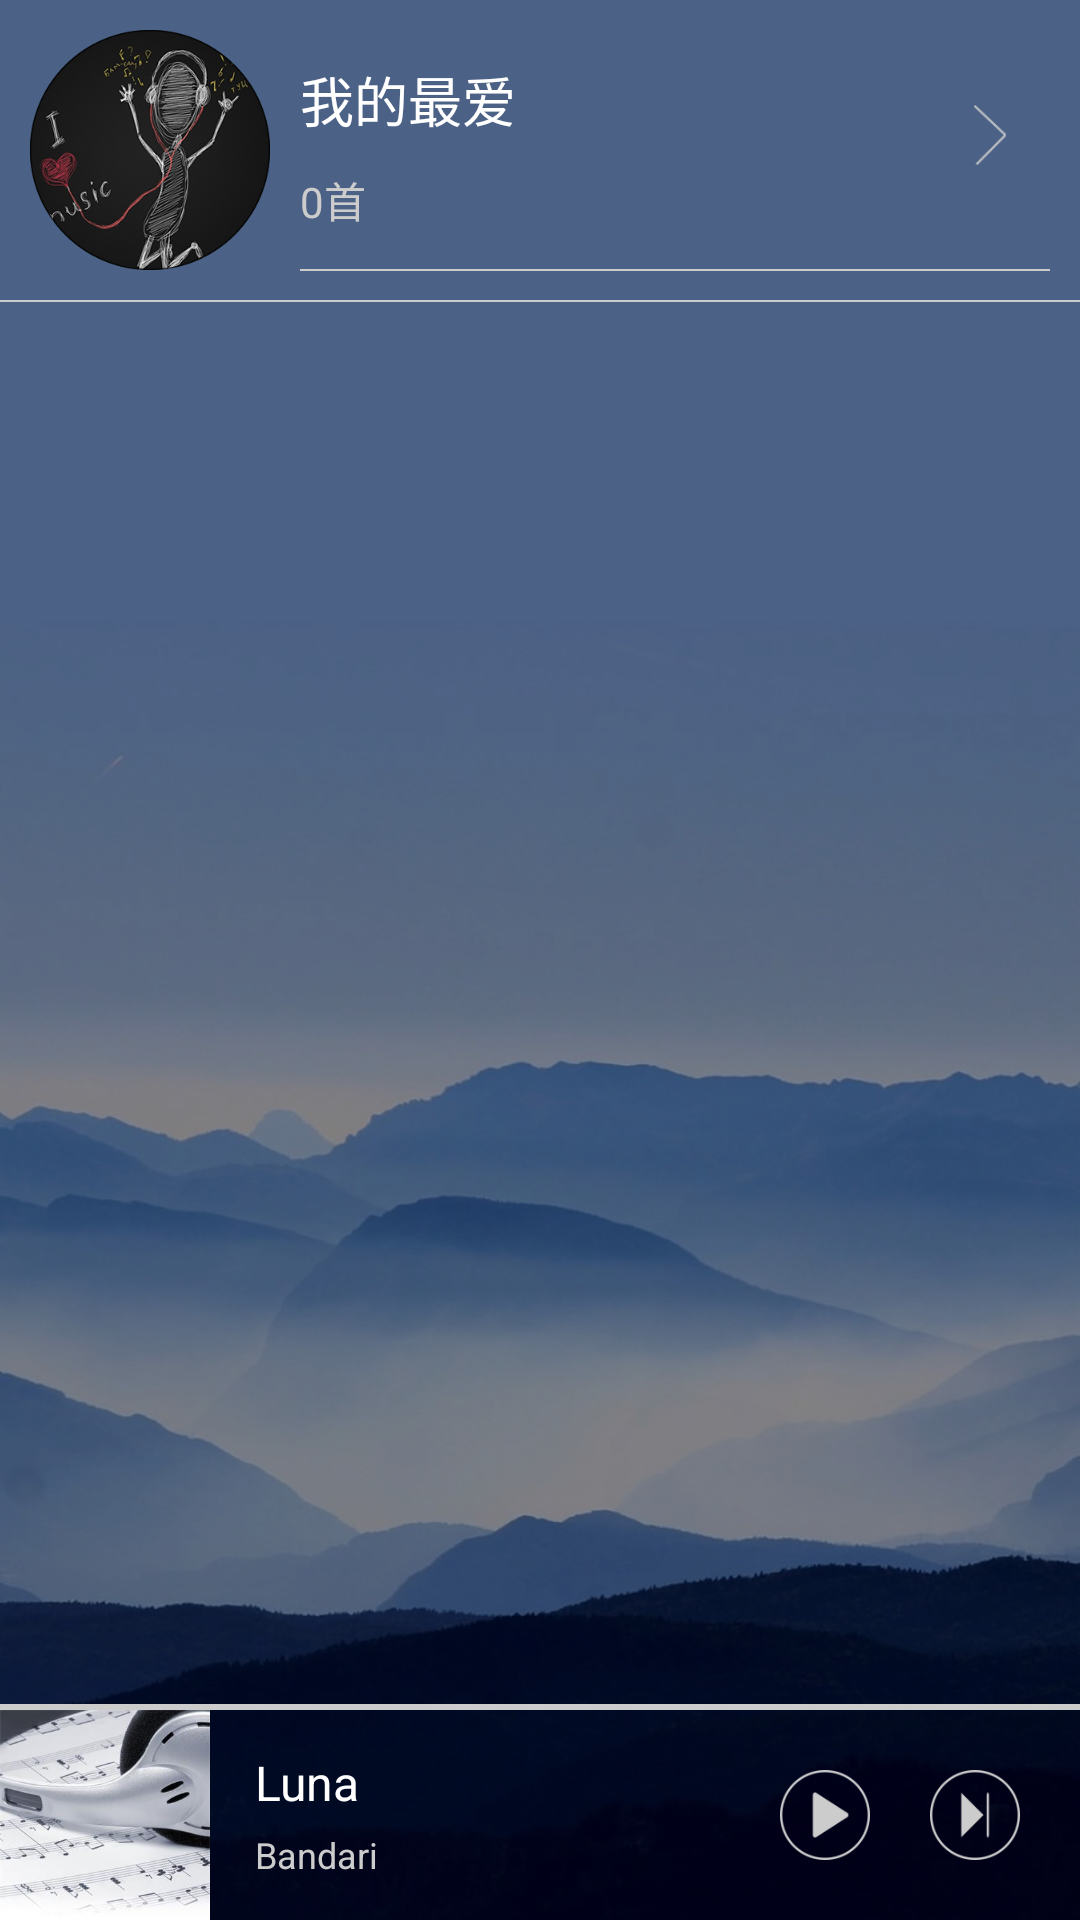

Icons on this 1080 x 1920 Android screen, each with its box as (left=x1, top=y1, right=x2, bottom=y2):
next: (left=930, top=1770, right=1020, bottom=1860)
start: (left=780, top=1770, right=870, bottom=1860)
